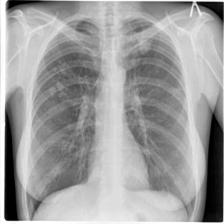tuberculosis: (17, 13, 198, 224)
